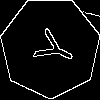Y: (25, 22, 79, 73)
